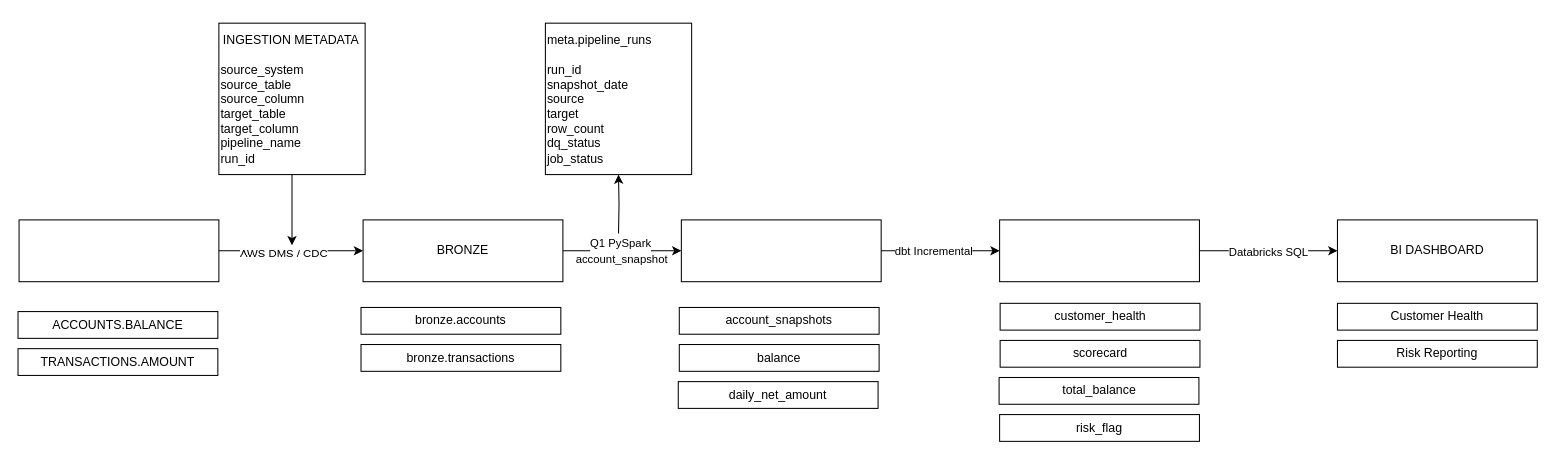
This 1555x459 diagram has some shape labels left out. Here are the shapes that lost their labels. From the top down, the centre of each, then its label:
point 118,250: ORACLE CORE BANKING
point 780,250: SILVER
point 1099,250: GOLD
